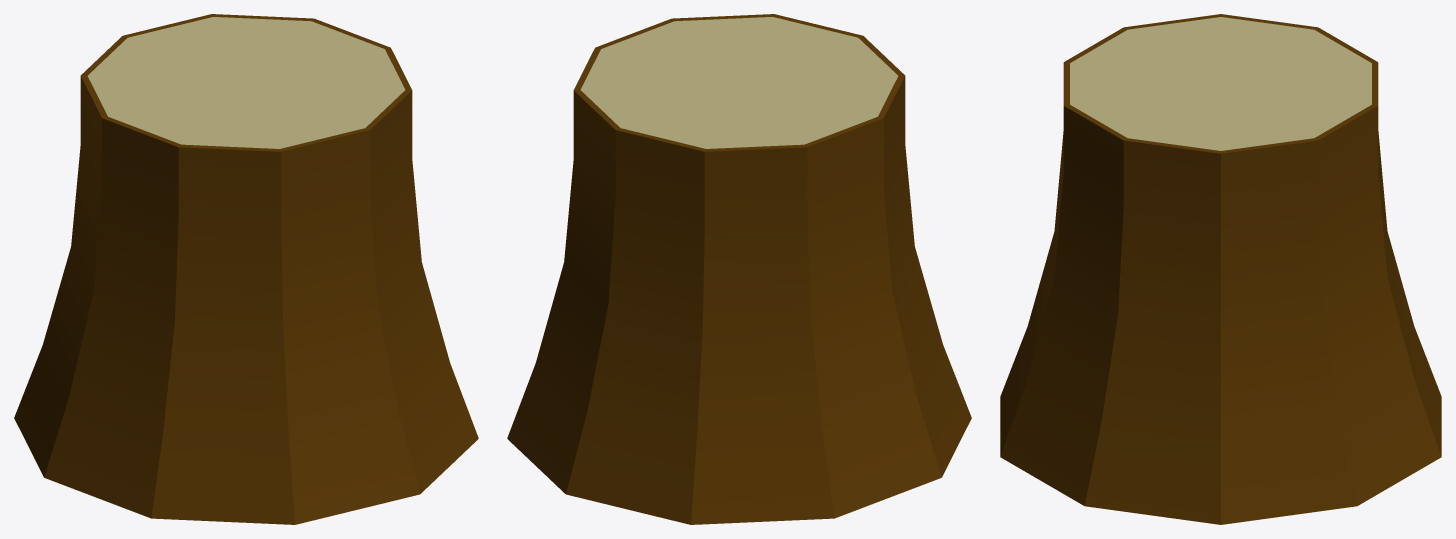
File: Treestump.fbx
3 renders of one model, left to right at view 1: azimuth 30°, elevation 25°; view 2: azimuth 150°, elevation 25°; view 3: azimuth 270°, elevation 25°, orthographic.
Parts seen in each view (by area): view 1: pCylinder1; view 2: pCylinder1; view 3: pCylinder1.
Boxes of the visible parts, <box> form: pCylinder1: <box>14,14,478,524</box>; pCylinder1: <box>507,14,971,524</box>; pCylinder1: <box>1000,14,1441,524</box>.
Bounding box in the file's own units: 196 × 160 × 187.
